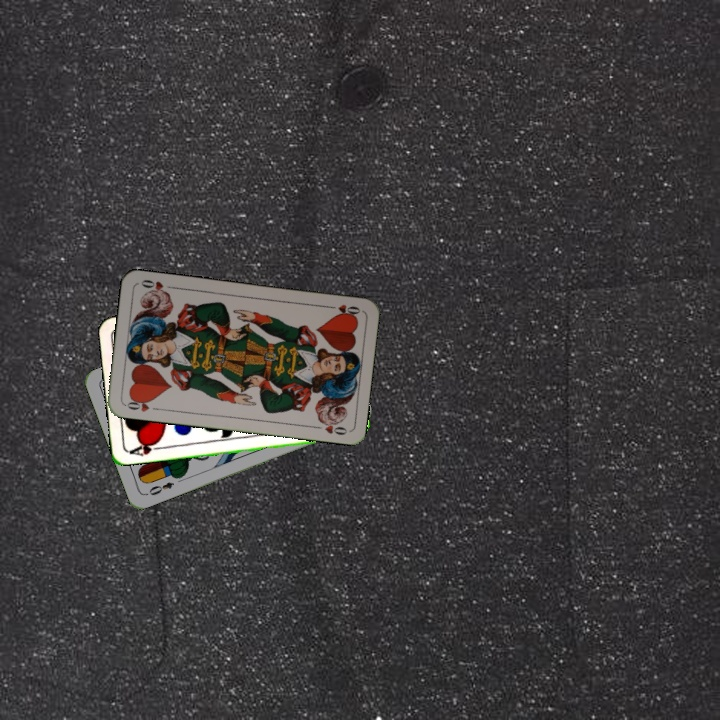EO: (142, 478, 177, 498)
HA: (126, 437, 166, 458)
HO: (122, 394, 162, 414), (323, 300, 363, 319)
